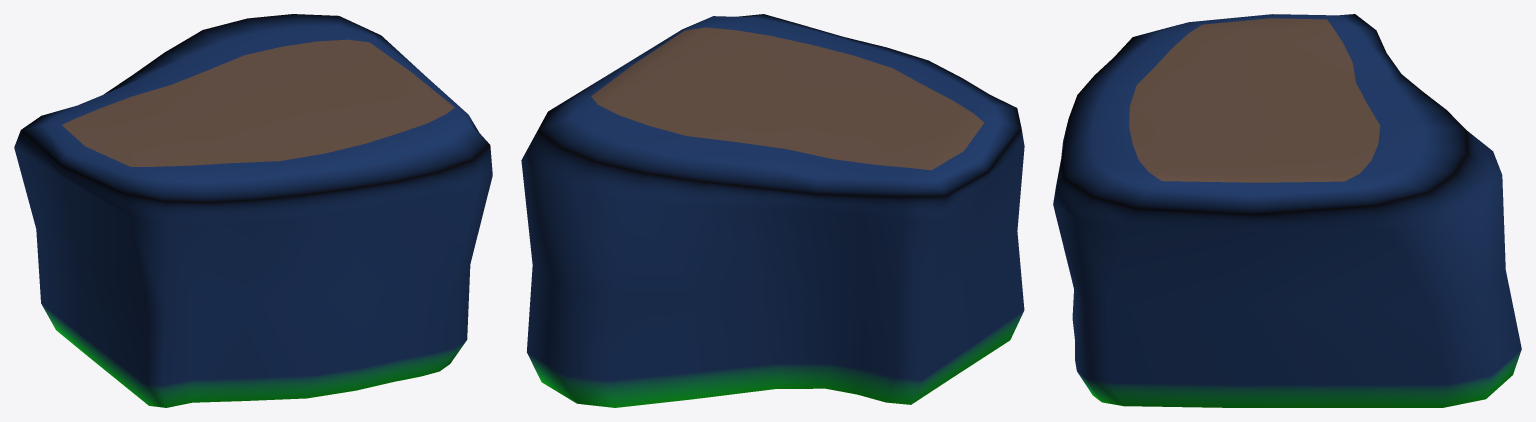
The model's file is New_Land_05.fbx.
The picture shows the model from 3 angles, left to right: view 1: azimuth 30°, elevation 25°; view 2: azimuth 150°, elevation 25°; view 3: azimuth 270°, elevation 25°; orthographic projection. The views are drawn at different scales.
Visible parts, largest first — view 1: Land_05_low1; view 2: Land_05_low1; view 3: Land_05_low1.
Part boxes in pixels (x1,y1,x2,y2): Land_05_low1: (14, 14, 492, 407); Land_05_low1: (521, 14, 1024, 407); Land_05_low1: (1053, 14, 1521, 407).
Bounding box in the file's own units: 1380 × 809 × 1426.
